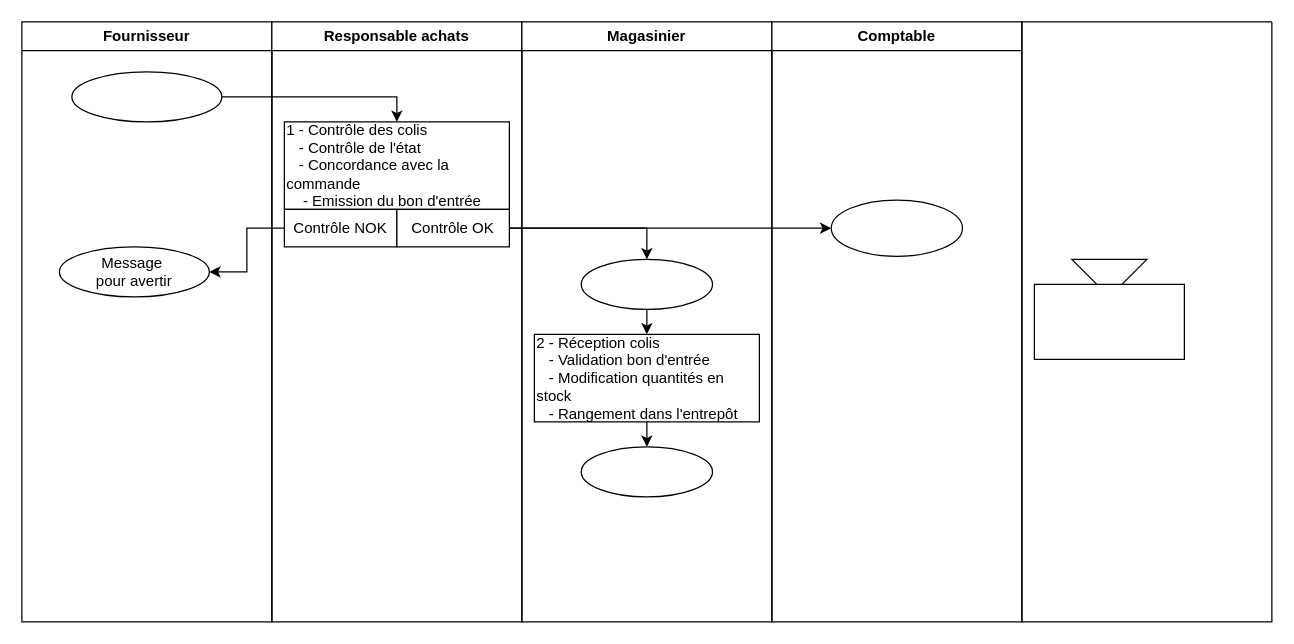
The diagram is 1294 pixels wide and 644 high, and some of its shapes have lost their labels. The centre of each missing label's shape, as x and y in pixels:
"Bon d'entrée" goes at (646,283).
"Bon d'entrée enregistré" goes at (646,471).
"Bon de livraison" goes at (146,96).
"Bon de livraison contresigné" goes at (896,227).
"ET" goes at (1109,271).
